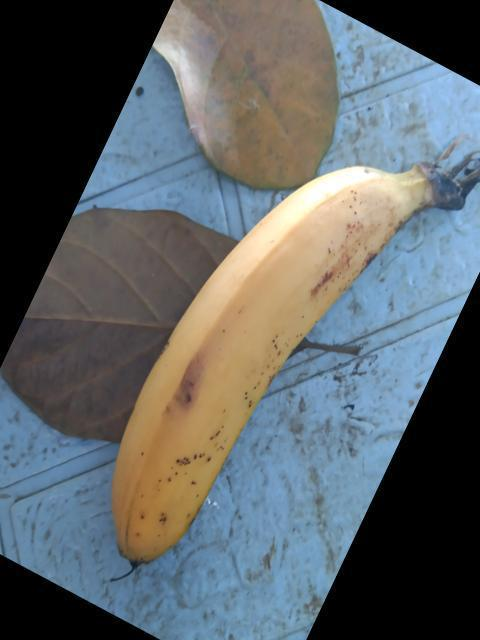ripe: (84, 163, 416, 583)
